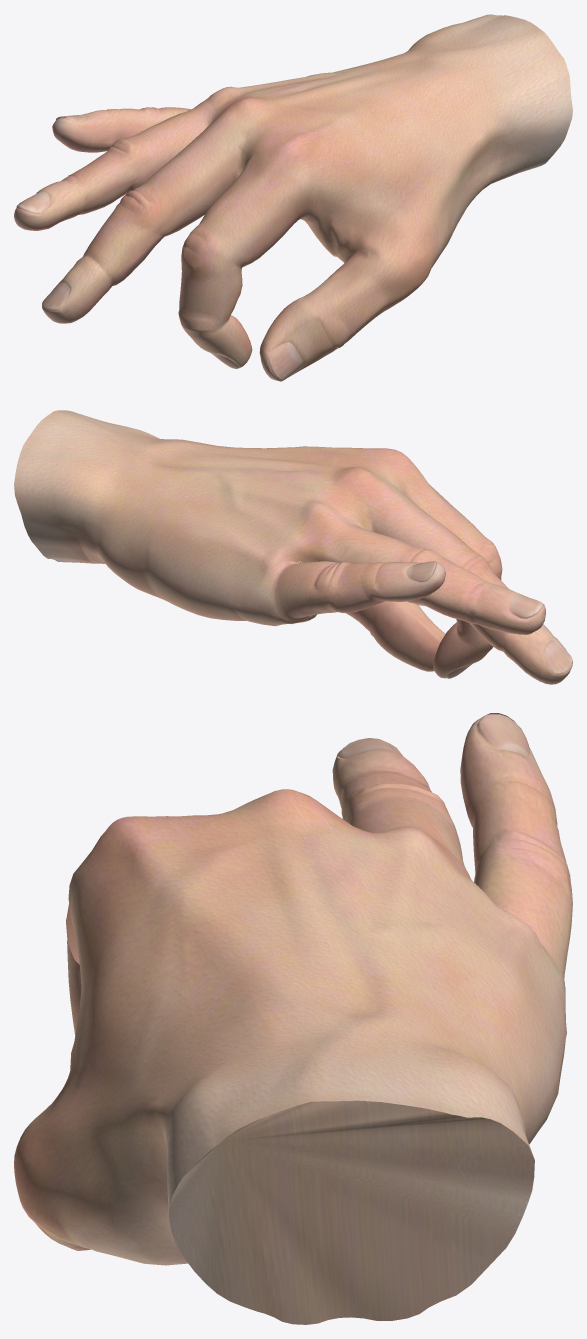
File: hand_12.obj
3 renders of one model, top to bottom at view 1: azimuth 30°, elevation 25°; view 2: azimuth 150°, elevation 25°; view 3: azimuth 270°, elevation 25°, orthographic. The views are drawn at different scales.
Visible parts, largest first — view 1: Figure_2; view 2: Figure_2; view 3: Figure_2.
Part boxes in pixels (box(x1,y1,x2,y2)): Figure_2: box(14, 14, 572, 381); Figure_2: box(14, 410, 572, 684); Figure_2: box(14, 713, 572, 1324).
Size of the model in its own units: 0.8573 by 0.377 by 0.4126.
2 materials, 2 textured.
